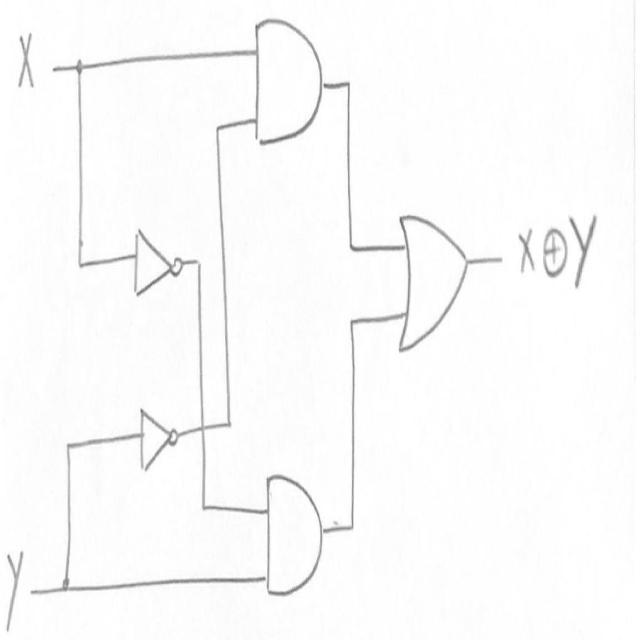AND: (250, 457, 332, 607), (248, 11, 328, 158)
NOT: (123, 217, 190, 301), (134, 380, 184, 478)
OR: (391, 196, 472, 373)
